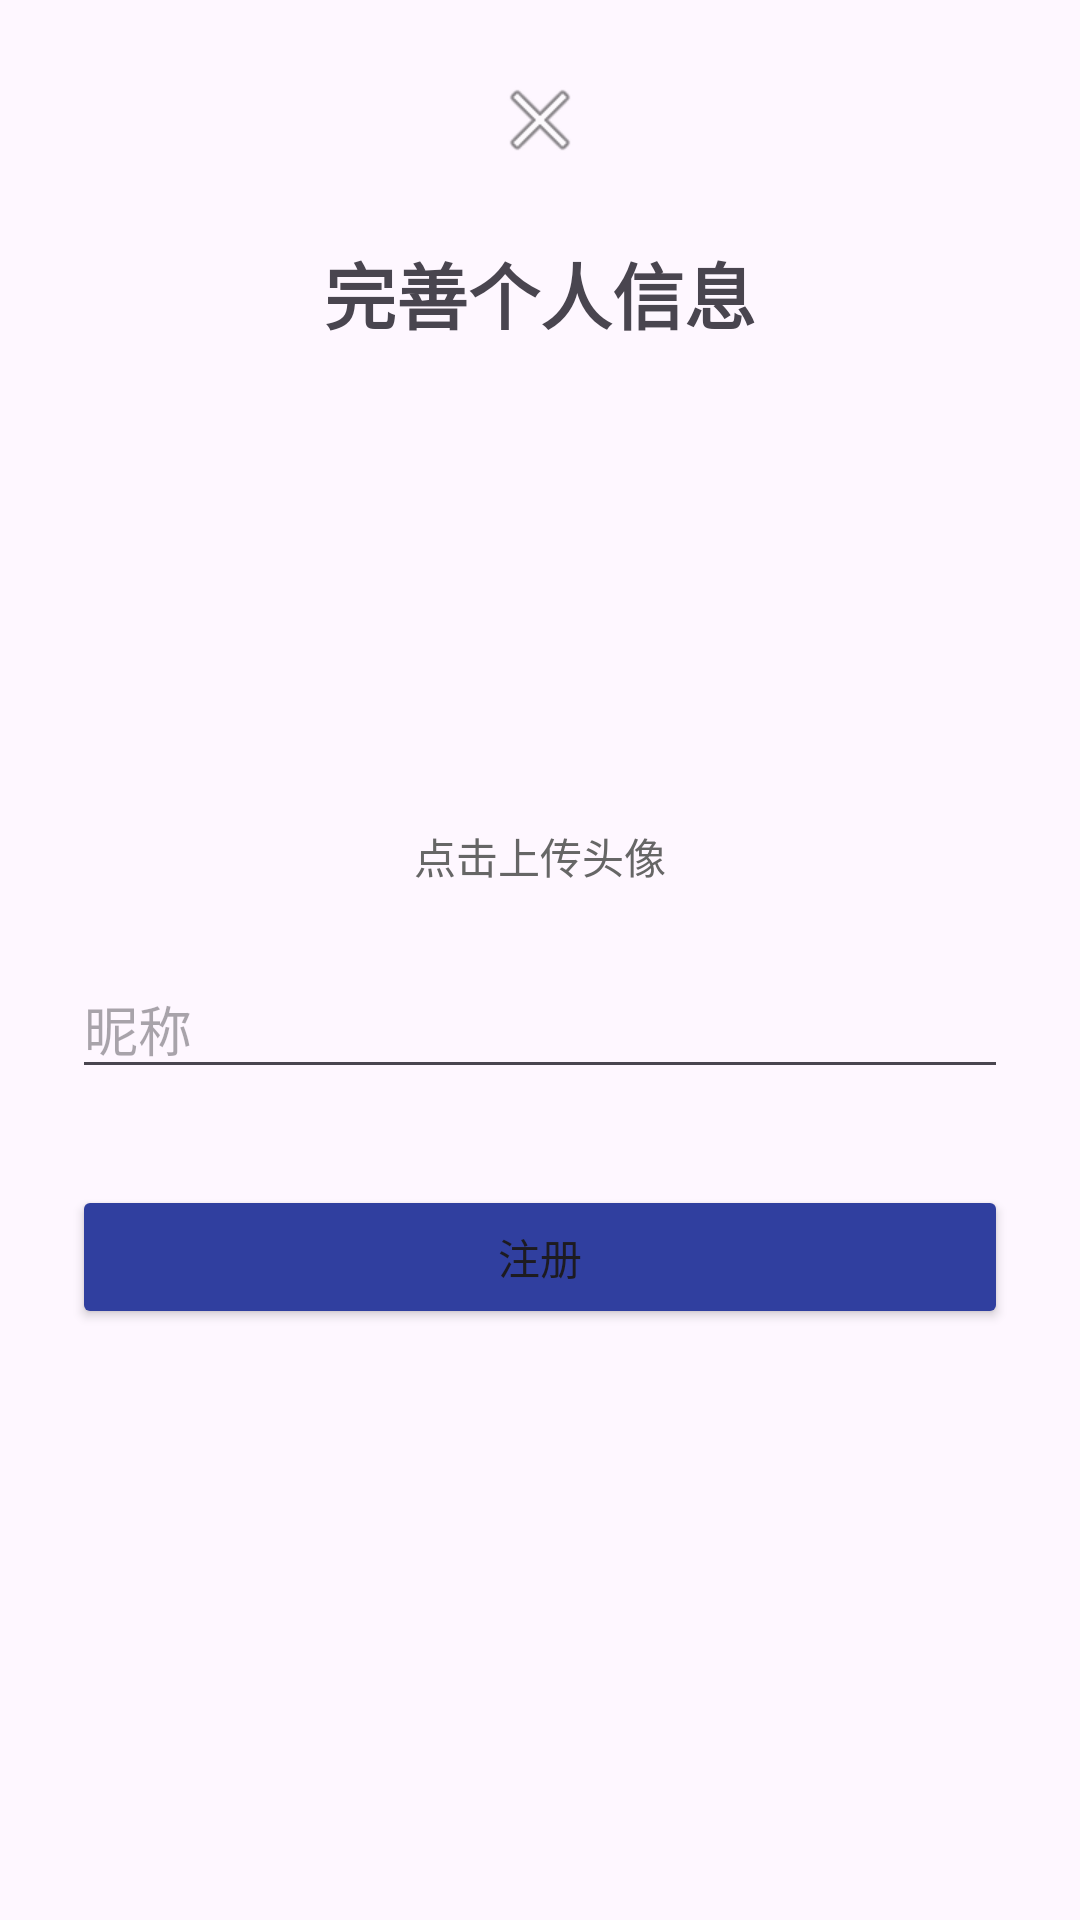

Where icons sit on this 1080 x 1920 app screen, as (x1, y1, x2, y2):
close clear cancel: (510, 90, 570, 150)
